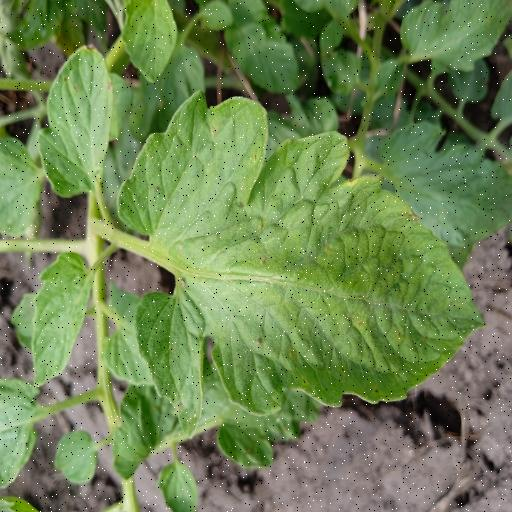Tomato_Brown_Spots: (113, 89, 484, 431)
